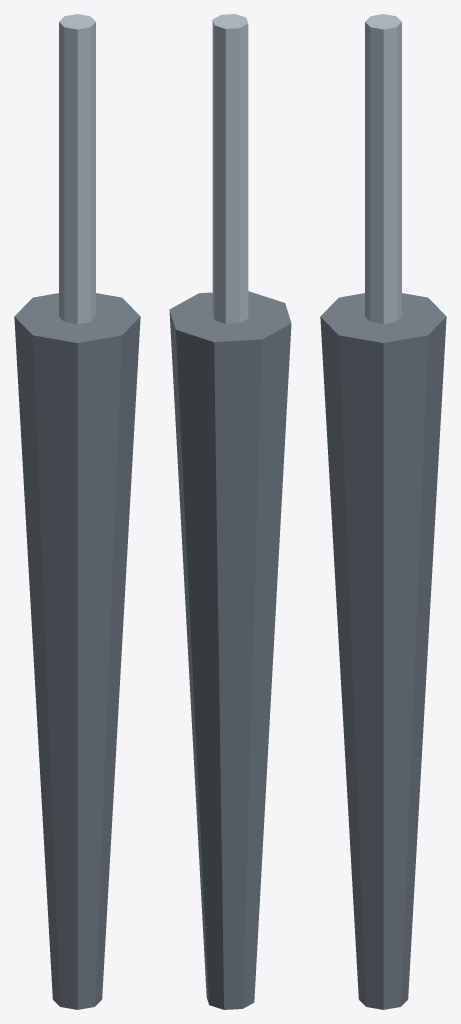
File: Temporary_MeleeWeapon.fbx
The picture shows the model from 3 angles, left to right: view 1: azimuth 90°, elevation 25°; view 2: azimuth 210°, elevation 25°; view 3: azimuth 270°, elevation 25°; orthographic projection.
Parts seen in each view (by area): view 1: pCylinder2; view 2: pCylinder2; view 3: pCylinder2.
Boxes of the visible parts, <box> form: pCylinder2: <box>14,14,140,1009</box>; pCylinder2: <box>169,14,291,1009</box>; pCylinder2: <box>320,14,446,1009</box>.
Size of the model in its own units: 0.569 by 4.86 by 0.569.
